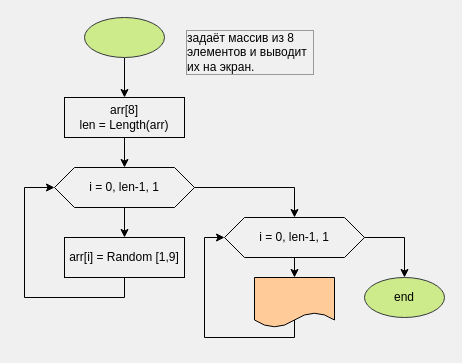
Some shapes in this 462 by 363 pixel diagram are drawn without their labels. Here are the shapes that lost their labels. From the top down, the centre of each, then its label:
At (124,37): "start".
At (294,302): "arr[i]".
